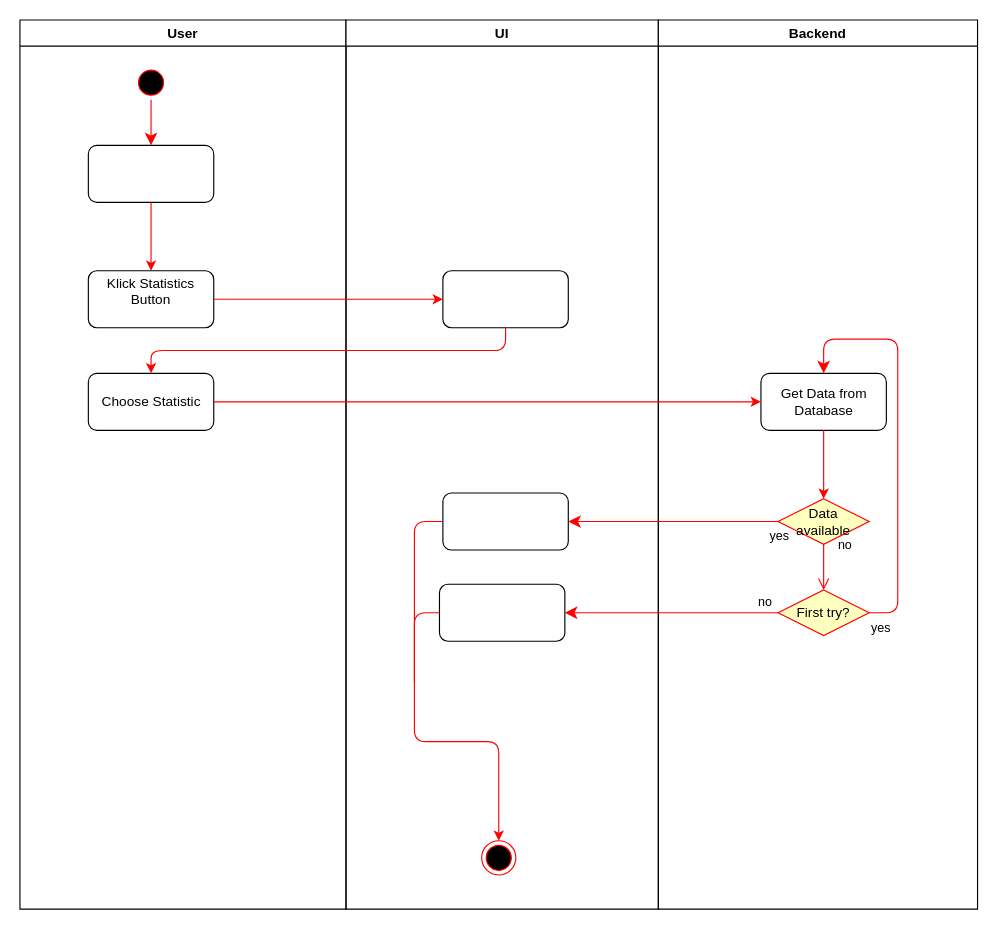
Image size: 998x929. Some labels were removed from this diagram. Each missing label, with the centre of its shape:
"Approaches Machine" belongs at [150,173].
"Show Error message" belongs at [501,612].
"Show Statistic" belongs at [505,521].
"Statistics Page shows" belongs at [505,299].
